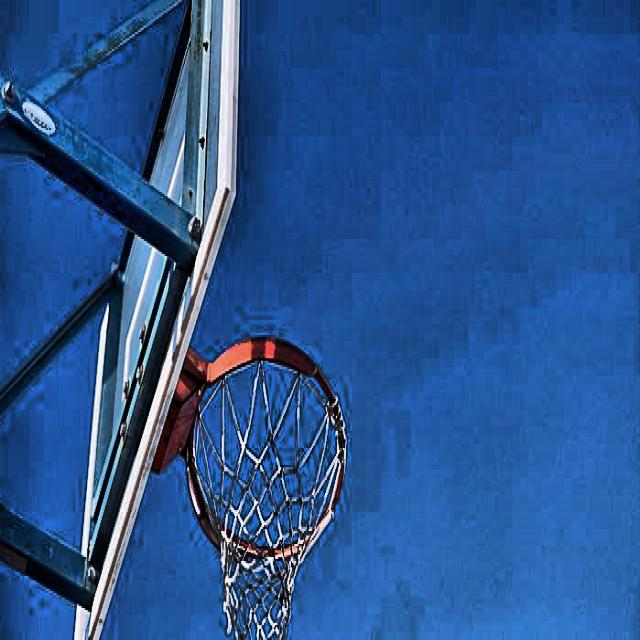rim: (189, 335, 345, 640)
